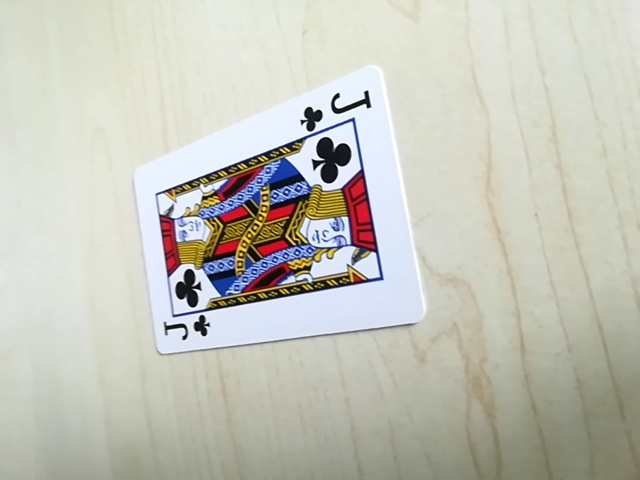mh j: (292, 87, 378, 130), (155, 311, 215, 350)
